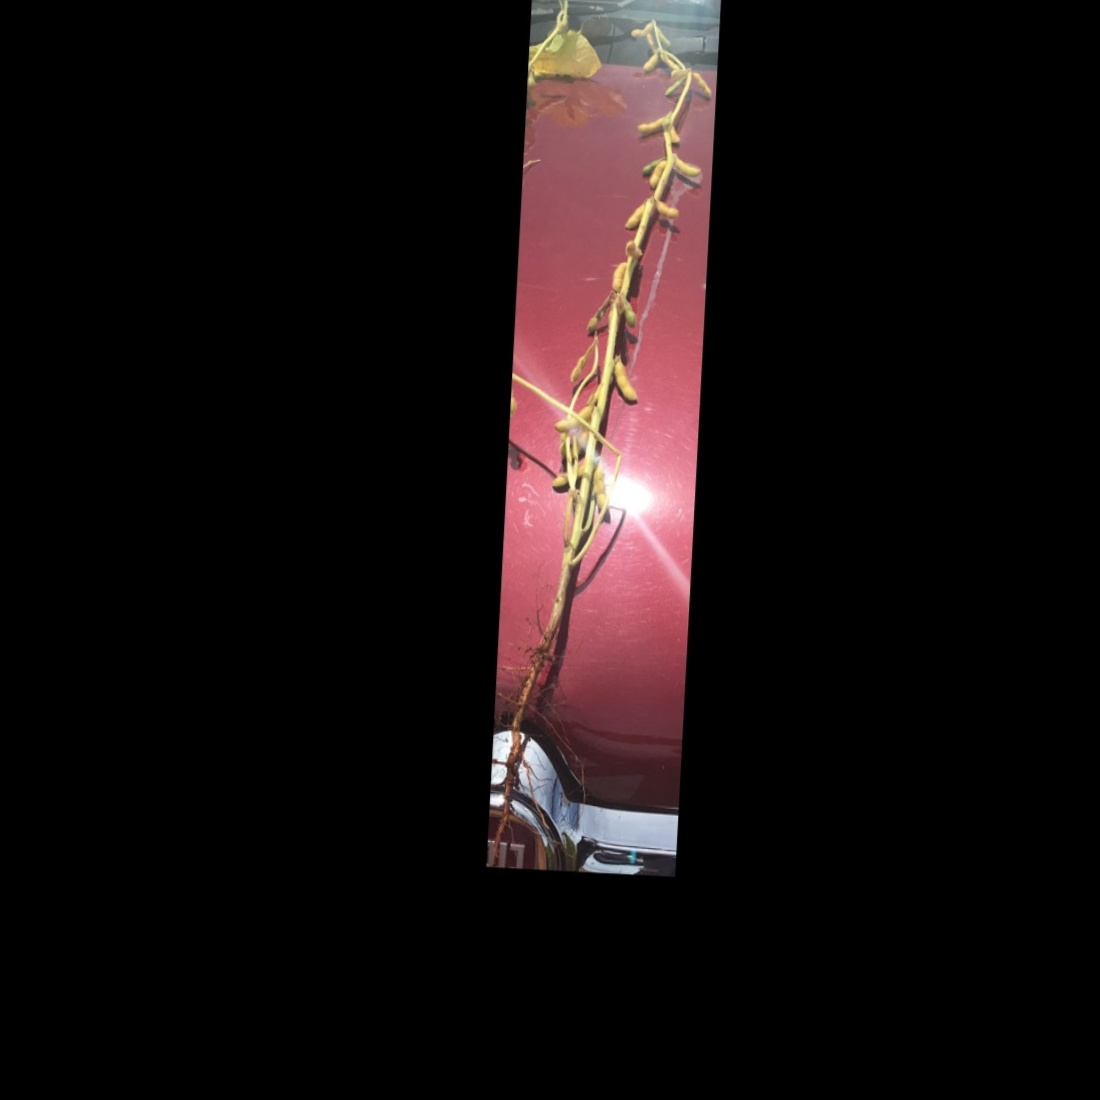pod: (610, 353, 643, 407), (552, 402, 591, 436), (565, 340, 595, 385), (590, 464, 611, 517), (690, 65, 716, 102), (620, 198, 644, 232), (672, 153, 702, 179), (654, 198, 684, 222), (634, 113, 665, 133), (626, 19, 655, 40), (661, 76, 684, 100), (621, 299, 639, 329), (640, 49, 661, 75)
soy: (491, 3, 712, 801)
